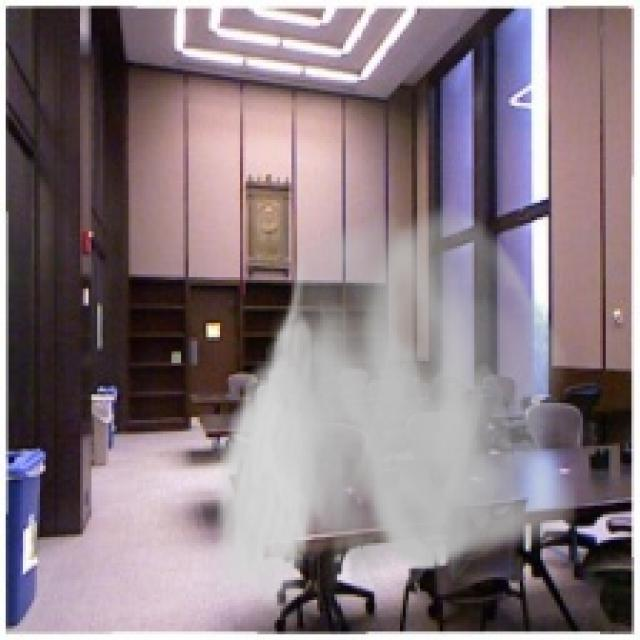smoke: (209, 194, 577, 620)
